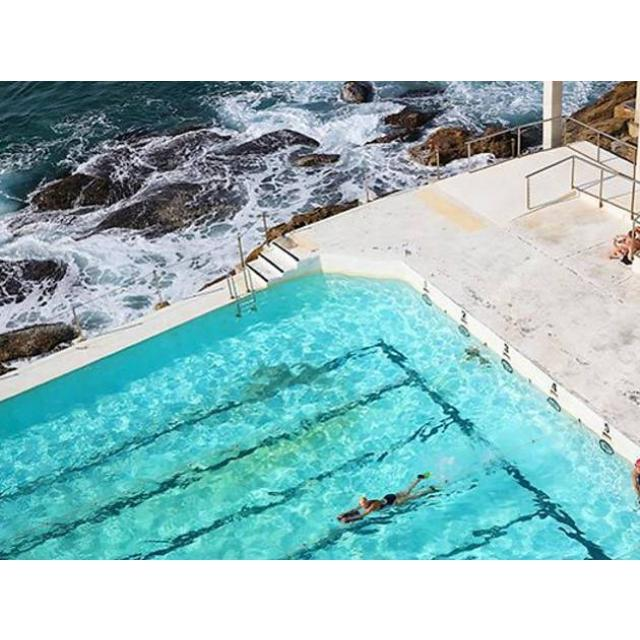human: (343, 471, 437, 525)
